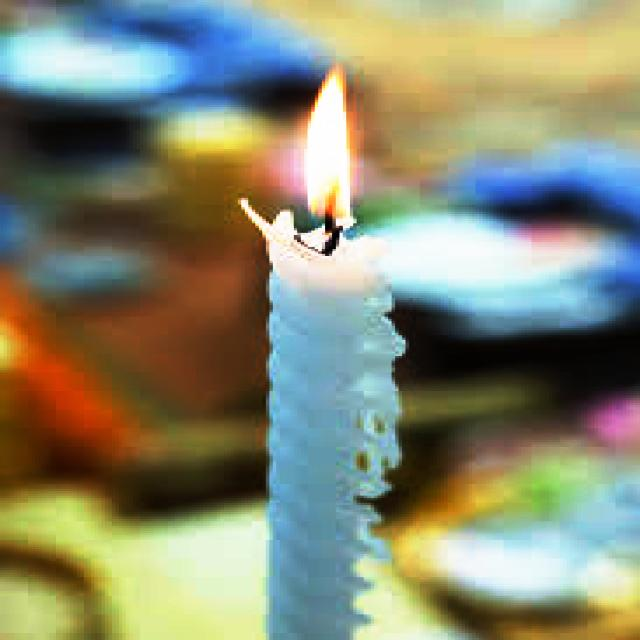api: (277, 55, 368, 239)
